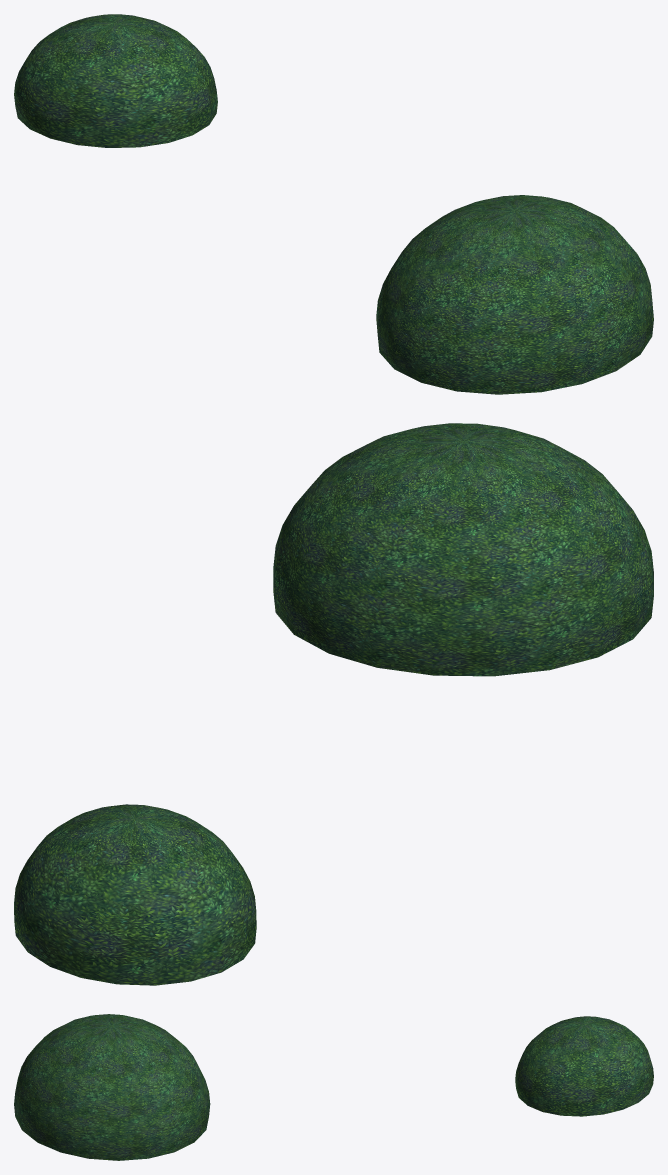
Rendered from Tree_1_Color.fbx.
The picture shows the model from 3 angles, top to bottom: view 1: azimuth 30°, elevation 25°; view 2: azimuth 150°, elevation 25°; view 3: azimuth 270°, elevation 25°; orthographic projection. The views are drawn at different scales.
Parts seen in each view (by area): view 1: group8_maid_pSphere2; view 2: group8_maid_pSphere2; view 3: group8_maid_pSphere2.
Boxes of the visible parts, bbox=[...] form: group8_maid_pSphere2: bbox=[14, 14, 653, 394]; group8_maid_pSphere2: bbox=[14, 423, 653, 985]; group8_maid_pSphere2: bbox=[14, 1014, 653, 1160].
Size of the model in its own units: 685 by 285 by 1826.
Materials: 1 (1 with a texture image).
